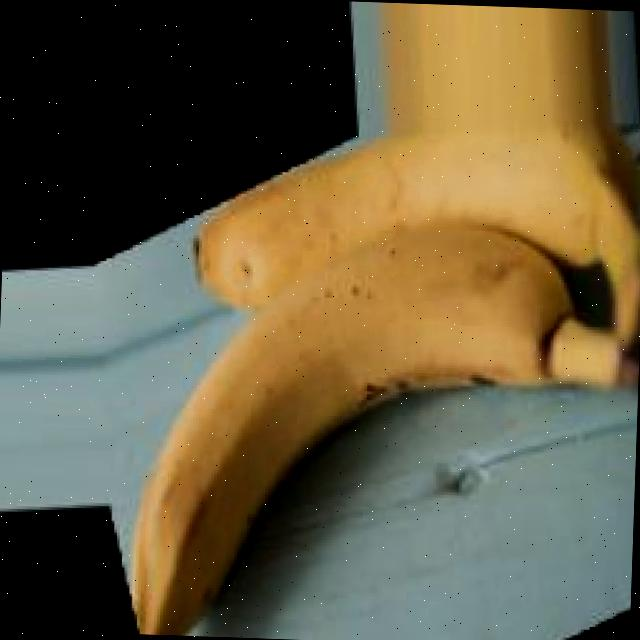banana: (75, 191, 640, 640), (171, 84, 640, 302)
